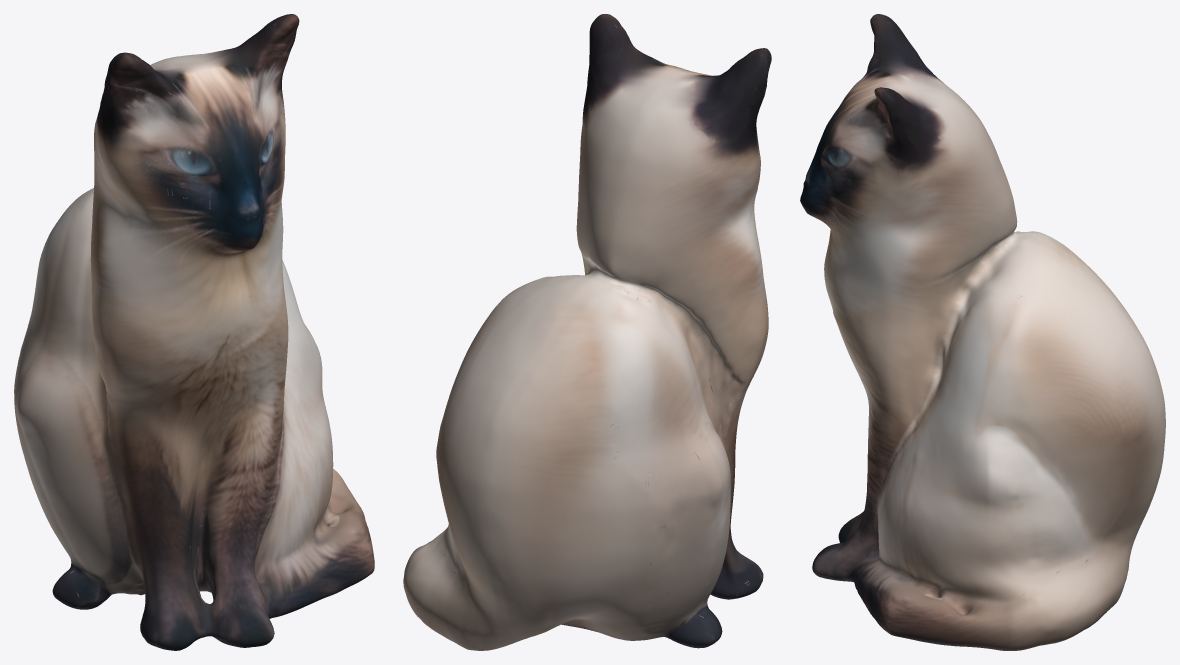
File: Siamese-Cat Pose_myf33ppmfcr9_Retopo.glb
3 renders of one model, left to right at view 1: azimuth 30°, elevation 25°; view 2: azimuth 150°, elevation 25°; view 3: azimuth 270°, elevation 25°, orthographic. The views are drawn at different scales.
Visible parts, largest first — view 1: Retopo_model; view 2: Retopo_model; view 3: Retopo_model.
Part boxes in pixels (x1,y1,x2,y2): Retopo_model: (14, 14, 374, 650); Retopo_model: (403, 14, 771, 650); Retopo_model: (800, 14, 1165, 650).
Bounding box in the file's own units: 0.5769 × 1 × 0.6397.
1 material, 1 textured.
